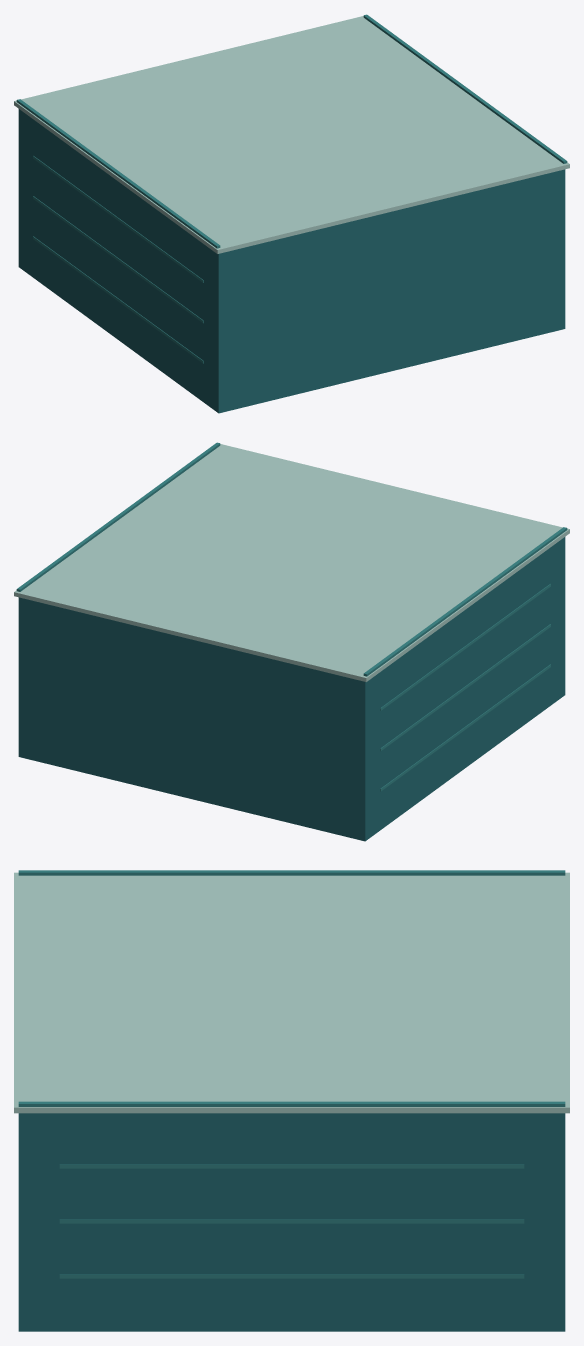
The model's file is roof_corner.glb.
3 renders of one model, top to bottom at view 1: azimuth 30°, elevation 25°; view 2: azimuth 150°, elevation 25°; view 3: azimuth 270°, elevation 25°, orthographic. The views are drawn at different scales.
Visible parts, largest first — view 1: roof_corner; view 2: roof_corner; view 3: roof_corner.
Boxes of the visible parts, left/top/right/bottom form: roof_corner: left=14, top=14, right=569, bottom=413; roof_corner: left=14, top=442, right=569, bottom=841; roof_corner: left=14, top=870, right=569, bottom=1331.
Bounding box in the file's own units: 18.3 × 8.31 × 18.3.
